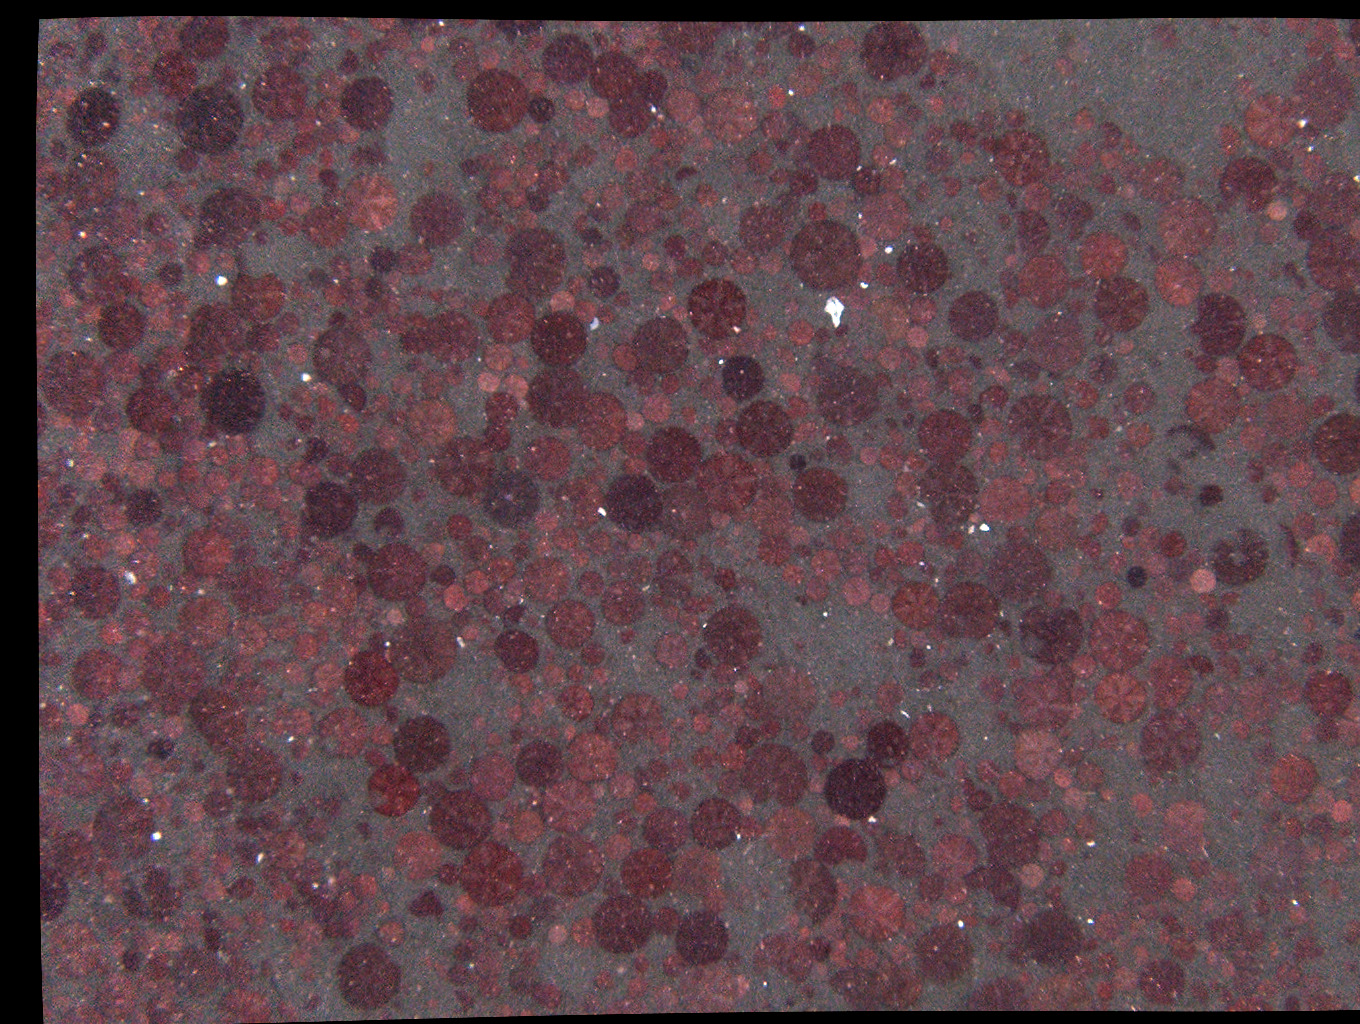Substrate A: (53, 23, 70, 40)
sand dollar: (785, 221, 859, 293), (207, 371, 278, 445), (177, 82, 247, 156), (189, 177, 259, 251), (499, 225, 569, 295), (337, 942, 406, 1010), (858, 19, 931, 82), (739, 741, 805, 808), (393, 617, 458, 684), (1010, 393, 1075, 457), (466, 847, 532, 910), (1292, 65, 1357, 129), (987, 546, 1056, 607), (916, 461, 979, 526), (814, 369, 881, 430), (1017, 605, 1085, 664), (123, 863, 184, 927), (91, 798, 157, 858), (1304, 221, 1360, 289), (148, 639, 204, 707), (433, 437, 496, 497), (44, 349, 104, 411), (684, 281, 747, 340), (820, 758, 885, 816), (641, 427, 704, 485), (466, 70, 522, 133), (1188, 296, 1247, 356), (545, 836, 603, 897), (429, 785, 486, 847), (1309, 284, 1360, 353), (802, 120, 861, 179), (343, 172, 402, 230), (314, 332, 372, 390), (94, 193, 152, 251), (68, 150, 126, 208), (66, 89, 124, 147), (144, 45, 202, 103), (184, 13, 242, 71), (63, 246, 121, 304), (245, 257, 303, 315), (250, 65, 307, 123), (91, 305, 149, 362), (205, 305, 263, 362), (942, 583, 1001, 639), (575, 393, 630, 452), (1093, 615, 1153, 670), (708, 606, 765, 662), (396, 716, 453, 772), (542, 778, 596, 836), (1155, 421, 1209, 474), (980, 805, 1035, 858), (625, 849, 679, 902), (1091, 278, 1145, 331), (945, 295, 999, 349), (603, 479, 657, 532), (409, 393, 462, 446), (521, 435, 575, 488), (301, 191, 355, 245), (412, 195, 466, 248), (698, 451, 751, 504), (645, 547, 699, 601), (919, 407, 973, 460), (749, 494, 803, 547), (790, 465, 844, 518), (864, 719, 918, 772), (1299, 664, 1352, 717), (1016, 677, 1070, 730), (960, 963, 1014, 1016), (634, 805, 688, 858), (229, 746, 283, 800), (371, 547, 425, 601), (178, 949, 232, 1002), (1155, 258, 1209, 311), (894, 243, 949, 296), (996, 133, 1050, 186), (352, 456, 406, 509), (595, 57, 649, 110), (481, 289, 535, 342), (653, 485, 707, 538), (911, 709, 965, 762), (853, 888, 907, 941), (783, 858, 838, 911), (812, 822, 867, 874), (1126, 857, 1180, 910), (1011, 725, 1065, 778), (396, 831, 450, 884), (679, 912, 734, 965), (595, 898, 649, 951), (194, 696, 248, 749), (368, 767, 423, 820), (181, 520, 235, 572), (181, 588, 235, 641), (1306, 413, 1356, 471), (1077, 231, 1131, 284), (1216, 157, 1270, 210), (1022, 253, 1076, 305), (1049, 185, 1103, 238), (992, 204, 1046, 257), (1209, 529, 1263, 582), (1261, 395, 1315, 447), (1244, 339, 1298, 392), (1187, 382, 1241, 435), (1160, 202, 1214, 255), (862, 298, 916, 351), (1029, 315, 1083, 368), (1136, 154, 1190, 207), (730, 198, 784, 251), (860, 188, 914, 241), (1306, 169, 1360, 222), (1245, 88, 1299, 141), (532, 313, 586, 366), (530, 368, 584, 421), (297, 484, 350, 537), (546, 475, 600, 528), (478, 474, 532, 527), (664, 18, 718, 71), (699, 88, 753, 141), (612, 97, 665, 150), (536, 27, 590, 80), (346, 75, 400, 128), (418, 312, 472, 365), (738, 402, 791, 455), (715, 349, 769, 401), (641, 316, 695, 369), (1030, 499, 1084, 552), (980, 477, 1034, 529), (762, 666, 816, 719), (543, 600, 597, 653), (515, 552, 569, 605), (592, 574, 646, 627), (1020, 918, 1074, 970), (964, 869, 1018, 922), (878, 966, 932, 1019), (922, 937, 976, 990), (762, 808, 816, 861), (509, 737, 562, 790), (566, 726, 619, 779), (603, 694, 657, 746), (892, 580, 946, 632), (878, 831, 932, 884), (930, 829, 984, 882), (1251, 841, 1305, 894), (1157, 801, 1211, 854), (1271, 746, 1325, 799), (1219, 670, 1273, 723), (1146, 715, 1200, 768), (1143, 654, 1197, 707), (1089, 671, 1143, 724), (1027, 966, 1080, 1019), (831, 956, 885, 1009), (756, 929, 810, 982), (678, 966, 732, 1019), (471, 745, 525, 798), (674, 851, 728, 904), (691, 800, 745, 853), (115, 371, 169, 424), (318, 711, 372, 764), (348, 651, 402, 703), (320, 898, 374, 951), (263, 823, 317, 876), (229, 971, 283, 1024), (89, 971, 143, 1024), (51, 931, 104, 984), (57, 828, 111, 881), (59, 744, 113, 797), (231, 558, 285, 611), (72, 652, 126, 705), (70, 566, 124, 618), (490, 627, 538, 671), (1330, 514, 1360, 578), (32, 874, 69, 926), (35, 309, 65, 361), (227, 622, 266, 659), (497, 14, 539, 45), (556, 686, 593, 721), (62, 705, 97, 741), (629, 197, 665, 230), (127, 764, 160, 800), (321, 579, 357, 612), (578, 636, 611, 671), (38, 702, 72, 735), (481, 392, 516, 423), (402, 317, 430, 356), (88, 472, 121, 504), (381, 24, 412, 57), (629, 166, 660, 199), (863, 95, 897, 126), (397, 243, 427, 278), (45, 221, 77, 252), (759, 82, 791, 113), (1061, 738, 1092, 770), (443, 51, 476, 81), (1093, 911, 1123, 944), (1120, 784, 1151, 815), (149, 958, 180, 991), (1211, 573, 1240, 607), (475, 366, 505, 397), (482, 336, 512, 367), (501, 369, 531, 400), (541, 289, 571, 321), (395, 435, 425, 466), (366, 421, 396, 452), (384, 396, 414, 427), (381, 367, 411, 398), (344, 379, 374, 410), (285, 335, 315, 366), (282, 268, 312, 299), (469, 240, 499, 271), (467, 289, 497, 321), (443, 282, 473, 313), (418, 282, 448, 313), (398, 278, 428, 309), (331, 252, 361, 283), (329, 298, 359, 329), (353, 300, 383, 331), (377, 297, 407, 328), (366, 270, 396, 301), (369, 243, 399, 274), (244, 127, 274, 158), (334, 46, 364, 77), (315, 68, 345, 99), (283, 25, 313, 56), (260, 24, 290, 55), (37, 245, 67, 276), (55, 196, 85, 227), (199, 157, 229, 188), (167, 170, 197, 201), (144, 173, 174, 204), (174, 146, 204, 177), (43, 168, 73, 199), (37, 137, 67, 168), (34, 102, 65, 133), (42, 80, 72, 111), (78, 28, 109, 59), (125, 71, 155, 102), (129, 43, 159, 74), (155, 18, 185, 49), (128, 12, 158, 43), (520, 139, 550, 170), (478, 200, 509, 231), (470, 177, 500, 209), (489, 154, 519, 185), (491, 139, 521, 170), (454, 150, 484, 181), (610, 144, 640, 175), (595, 124, 625, 155), (570, 110, 600, 141), (560, 83, 590, 114), (530, 93, 560, 124), (521, 71, 552, 102), (502, 46, 532, 77), (468, 15, 498, 46), (469, 40, 499, 71), (445, 27, 475, 58), (409, 14, 439, 45), (406, 68, 436, 99), (418, 26, 448, 57), (171, 323, 201, 354), (315, 385, 345, 416), (157, 283, 187, 314), (138, 303, 168, 335), (176, 370, 206, 401), (121, 356, 152, 387), (289, 379, 319, 410), (103, 355, 133, 386), (115, 274, 145, 305), (281, 189, 311, 221), (249, 152, 280, 183), (210, 250, 240, 281), (160, 255, 190, 286), (183, 225, 213, 256), (129, 241, 159, 272), (81, 300, 111, 331), (48, 279, 78, 310), (317, 165, 347, 196), (320, 143, 350, 174), (295, 156, 325, 187), (257, 187, 287, 218), (270, 143, 300, 174), (292, 123, 323, 154), (315, 111, 345, 142), (334, 116, 364, 147), (311, 95, 341, 126), (291, 106, 321, 138), (275, 210, 305, 241), (352, 137, 382, 168), (339, 411, 369, 442), (285, 408, 315, 439), (172, 569, 202, 600), (148, 580, 178, 611), (66, 504, 96, 536), (130, 547, 160, 579), (102, 523, 132, 554), (41, 484, 71, 515), (34, 447, 65, 479), (198, 438, 228, 469), (194, 465, 224, 496), (182, 481, 212, 512), (174, 454, 204, 485), (178, 433, 209, 465), (159, 484, 189, 515), (151, 456, 181, 487), (132, 431, 162, 463), (127, 494, 157, 525), (98, 452, 128, 483), (114, 425, 144, 456), (73, 454, 103, 485), (91, 406, 121, 437), (70, 423, 100, 454), (41, 409, 71, 440), (47, 585, 77, 616), (44, 563, 74, 594), (37, 639, 67, 670), (808, 43, 839, 74), (383, 598, 413, 629), (345, 586, 375, 617), (419, 530, 449, 561), (295, 599, 325, 630), (295, 552, 325, 583), (268, 547, 298, 579), (228, 526, 258, 557), (205, 498, 235, 529), (270, 510, 300, 541), (249, 478, 280, 509), (246, 455, 276, 486), (283, 478, 313, 509), (301, 458, 331, 489), (445, 511, 475, 542), (371, 504, 401, 536), (404, 488, 434, 520), (299, 435, 329, 466), (325, 453, 355, 484), (675, 200, 705, 231), (698, 180, 728, 211), (781, 31, 811, 62), (819, 186, 849, 217), (801, 187, 831, 218), (790, 166, 820, 197), (720, 143, 750, 174), (748, 146, 778, 177), (755, 110, 785, 141), (739, 43, 769, 74), (647, 57, 677, 88), (643, 38, 673, 69), (626, 22, 656, 53), (638, 72, 668, 103), (587, 23, 617, 54), (688, 69, 718, 100), (687, 140, 717, 171), (644, 124, 674, 155), (669, 88, 699, 119), (712, 422, 742, 453), (707, 382, 738, 413), (792, 421, 822, 452), (673, 396, 703, 427), (691, 366, 721, 397), (788, 392, 818, 423), (616, 451, 646, 482), (619, 430, 649, 461), (669, 359, 699, 390), (782, 372, 812, 403), (652, 368, 682, 399), (740, 307, 770, 338), (699, 336, 729, 367), (620, 362, 650, 394), (603, 343, 633, 374), (756, 251, 786, 282), (728, 248, 758, 280), (697, 238, 727, 269), (672, 258, 702, 289), (653, 285, 683, 316), (640, 264, 670, 295), (630, 245, 660, 276), (611, 253, 641, 284), (598, 223, 628, 254), (571, 213, 601, 244), (577, 183, 607, 214), (601, 183, 631, 214), (583, 252, 613, 283), (587, 268, 617, 299), (564, 296, 595, 327), (556, 265, 586, 296), (573, 143, 603, 174), (459, 616, 489, 648), (446, 601, 476, 632), (479, 584, 510, 615), (487, 551, 517, 582), (459, 563, 489, 594), (444, 584, 474, 615), (467, 526, 497, 557), (510, 529, 540, 560), (535, 507, 566, 538), (549, 526, 579, 557), (578, 563, 609, 594), (567, 541, 597, 572), (585, 527, 615, 558), (617, 524, 647, 555), (586, 455, 616, 486), (888, 615, 918, 646), (903, 650, 933, 681), (655, 637, 685, 668), (657, 600, 687, 631), (715, 558, 745, 589), (695, 552, 725, 583), (935, 555, 965, 586), (939, 527, 969, 558), (904, 510, 934, 541), (877, 492, 907, 523), (839, 540, 869, 571), (876, 540, 906, 571), (897, 536, 927, 567), (847, 523, 877, 554), (821, 523, 851, 554), (808, 544, 839, 575), (789, 522, 819, 553), (762, 536, 792, 567), (702, 507, 732, 538), (785, 442, 815, 473), (762, 464, 792, 495), (746, 449, 776, 480), (153, 928, 183, 959), (299, 805, 329, 836), (307, 786, 338, 817), (276, 800, 306, 831), (274, 908, 304, 939), (274, 877, 304, 908), (255, 869, 285, 900), (180, 857, 210, 888), (199, 881, 229, 912), (227, 870, 257, 901), (253, 800, 283, 831), (232, 808, 262, 839), (184, 798, 214, 829), (109, 755, 139, 786), (161, 710, 191, 741), (383, 691, 413, 722), (368, 720, 398, 751), (337, 623, 367, 654), (303, 679, 333, 710), (255, 710, 285, 741), (237, 682, 267, 713), (113, 667, 143, 698), (94, 622, 124, 653), (124, 931, 154, 963), (302, 920, 332, 951), (213, 908, 243, 939), (147, 993, 177, 1024), (37, 989, 67, 1020), (115, 952, 145, 983), (35, 808, 66, 839), (86, 863, 116, 894), (584, 965, 614, 996), (683, 714, 713, 745), (689, 740, 719, 771), (672, 767, 702, 798), (602, 828, 632, 859), (635, 783, 665, 814), (645, 755, 675, 786), (516, 810, 546, 841), (489, 813, 519, 844), (521, 777, 552, 808), (413, 767, 443, 798), (477, 711, 507, 742), (549, 719, 579, 750), (500, 721, 530, 752), (503, 695, 533, 726), (526, 689, 556, 721), (503, 666, 533, 697), (653, 728, 683, 759), (564, 662, 595, 693), (645, 907, 675, 938), (373, 862, 403, 893), (601, 872, 631, 904), (497, 989, 527, 1020), (475, 977, 505, 1008), (461, 983, 491, 1014), (478, 940, 509, 971), (530, 984, 560, 1015), (506, 968, 536, 999), (519, 939, 549, 970), (450, 933, 481, 964), (543, 919, 573, 950), (505, 911, 535, 942), (479, 904, 510, 935), (447, 909, 477, 940), (409, 894, 439, 925), (433, 862, 463, 893), (520, 865, 550, 896), (821, 948, 851, 979), (884, 766, 914, 797), (732, 812, 762, 843), (740, 784, 770, 815), (711, 763, 741, 794), (710, 734, 740, 765), (732, 679, 762, 710), (703, 686, 733, 717), (683, 651, 713, 682), (905, 754, 935, 785), (867, 684, 897, 715), (800, 765, 830, 796), (807, 746, 838, 778), (815, 725, 845, 756), (838, 725, 868, 756), (844, 709, 874, 740), (825, 685, 855, 716), (811, 962, 841, 993), (855, 941, 885, 972), (892, 912, 922, 943), (815, 906, 845, 937), (889, 942, 919, 973), (655, 952, 685, 983), (1275, 798, 1305, 829), (1125, 913, 1155, 944), (1126, 942, 1156, 973), (1114, 961, 1144, 992), (1097, 976, 1127, 1007), (1070, 950, 1100, 981), (1053, 885, 1083, 916), (1019, 897, 1049, 928), (985, 924, 1015, 955), (946, 876, 976, 907), (921, 878, 951, 909), (937, 786, 968, 817), (937, 752, 968, 783), (970, 746, 1000, 778), (1001, 769, 1031, 800), (1021, 778, 1051, 809), (1050, 842, 1080, 873), (1074, 814, 1104, 845), (1042, 806, 1072, 837), (1112, 735, 1142, 766), (1091, 782, 1121, 813), (1058, 783, 1088, 814), (1089, 729, 1119, 760), (1314, 779, 1344, 810), (1299, 636, 1329, 667), (1251, 806, 1282, 837), (1314, 976, 1344, 1007), (1283, 985, 1313, 1016), (1330, 926, 1360, 957), (1295, 936, 1326, 967), (1233, 963, 1263, 994), (1214, 951, 1244, 982), (1250, 891, 1280, 922), (1286, 899, 1316, 930), (1213, 914, 1243, 945), (1329, 841, 1359, 872), (1330, 795, 1360, 826), (1209, 871, 1240, 902), (1188, 854, 1218, 885), (1321, 715, 1351, 746), (1274, 683, 1304, 714), (1207, 681, 1237, 712), (1203, 710, 1233, 741), (1070, 683, 1100, 714), (1071, 653, 1101, 684), (998, 652, 1028, 683), (987, 714, 1017, 745), (917, 635, 947, 666), (1125, 565, 1155, 596), (1078, 595, 1108, 626), (1042, 584, 1072, 615), (1076, 538, 1106, 569), (1002, 520, 1032, 551), (1125, 413, 1155, 444), (1088, 412, 1118, 443), (1071, 433, 1101, 465), (1062, 455, 1092, 486), (1015, 458, 1045, 489), (1154, 571, 1184, 602), (1189, 563, 1219, 594), (1134, 551, 1164, 582), (1162, 527, 1192, 558), (1133, 521, 1163, 552), (1114, 509, 1144, 540), (1330, 480, 1360, 511), (1308, 477, 1338, 508), (1262, 437, 1292, 468), (1286, 453, 1316, 484), (1270, 468, 1300, 499), (1257, 477, 1287, 508), (1233, 459, 1263, 490), (1157, 471, 1187, 502), (139, 279, 168, 311), (867, 588, 894, 622), (482, 418, 512, 449), (403, 349, 433, 379), (309, 262, 339, 293), (323, 278, 353, 308), (245, 20, 275, 51), (48, 35, 78, 66), (67, 8, 97, 38), (531, 119, 561, 150), (499, 177, 529, 208), (585, 93, 615, 123), (402, 48, 432, 79), (354, 34, 384, 65), (172, 389, 202, 419), (247, 321, 277, 351), (180, 248, 210, 279), (151, 205, 181, 236), (259, 162, 289, 193), (247, 221, 277, 251), (126, 577, 156, 607), (78, 534, 109, 564), (102, 504, 132, 535), (120, 460, 151, 490), (367, 617, 397, 648), (396, 589, 426, 620), (275, 574, 305, 605), (314, 531, 344, 561), (348, 532, 378, 563), (213, 461, 243, 492), (228, 432, 258, 463), (284, 461, 314, 492), (790, 65, 820, 95), (653, 177, 683, 208), (670, 162, 700, 193), (656, 150, 686, 180), (777, 346, 807, 376), (791, 318, 821, 349), (762, 319, 792, 350), (730, 332, 760, 362), (622, 406, 653, 436), (663, 233, 693, 264), (606, 278, 636, 308), (539, 162, 569, 193), (503, 574, 533, 605), (839, 574, 869, 605), (867, 517, 897, 547), (803, 574, 833, 605), (228, 845, 258, 876), (204, 845, 234, 876), (205, 788, 235, 819), (141, 733, 171, 763), (108, 702, 138, 733), (314, 659, 344, 689), (285, 730, 315, 760), (281, 703, 311, 734), (294, 631, 324, 662), (276, 660, 306, 691), (269, 617, 299, 648), (230, 660, 260, 691), (126, 632, 156, 663), (230, 958, 260, 989), (246, 904, 276, 934), (612, 803, 642, 834), (661, 673, 691, 703), (541, 659, 571, 689), (700, 887, 730, 918), (561, 916, 591, 947), (448, 887, 478, 918), (883, 816, 913, 847), (625, 945, 655, 976), (717, 703, 747, 734), (711, 660, 741, 691), (741, 719, 771, 749), (764, 716, 794, 746), (783, 716, 813, 746), (826, 874, 856, 905), (1098, 944, 1128, 975), (1022, 859, 1053, 890), (1226, 989, 1256, 1019), (1321, 873, 1351, 904), (1274, 958, 1304, 989), (1163, 929, 1193, 959), (1161, 902, 1191, 933), (1233, 717, 1263, 748), (1288, 503, 1318, 534), (1106, 463, 1136, 493), (1056, 659, 1086, 689), (977, 675, 1007, 706), (933, 659, 963, 689), (1053, 490, 1083, 521), (1105, 432, 1135, 463), (1037, 474, 1068, 504), (1166, 547, 1197, 578), (1285, 432, 1315, 463), (509, 343, 538, 374), (421, 372, 450, 403), (280, 302, 309, 333), (350, 279, 380, 310), (366, 12, 395, 43), (204, 52, 235, 81), (108, 32, 137, 63), (509, 201, 538, 232), (35, 516, 65, 547), (135, 520, 164, 551), (151, 429, 180, 460), (337, 551, 366, 582), (765, 153, 794, 184), (781, 124, 810, 155), (722, 49, 751, 81), (665, 301, 695, 332), (593, 305, 622, 337), (423, 555, 452, 586), (507, 451, 536, 482), (622, 554, 652, 585), (679, 598, 708, 629), (953, 550, 982, 581), (779, 564, 808, 595), (364, 753, 393, 784), (121, 609, 151, 640), (380, 911, 409, 942), (294, 943, 323, 975), (350, 869, 380, 900), (609, 771, 638, 802), (593, 656, 622, 687), (781, 909, 810, 940), (722, 949, 751, 980), (650, 984, 679, 1015), (937, 894, 967, 925), (967, 782, 996, 813), (1037, 827, 1066, 858), (1053, 765, 1082, 796), (1080, 753, 1110, 784), (1239, 780, 1268, 811), (1237, 922, 1266, 953), (1166, 877, 1196, 908), (1096, 579, 1125, 610), (1123, 381, 1153, 412), (1039, 449, 1070, 478), (1196, 480, 1225, 511), (366, 392, 395, 422), (151, 234, 180, 265), (49, 318, 78, 349), (35, 603, 65, 634), (529, 190, 558, 221), (151, 788, 180, 819), (436, 958, 466, 989), (1295, 717, 1325, 748), (1097, 321, 1128, 349), (873, 369, 898, 403), (529, 890, 558, 919), (980, 414, 1010, 443), (959, 400, 988, 429), (1007, 359, 1036, 388), (978, 384, 1007, 413), (984, 355, 1013, 384), (940, 371, 969, 400), (846, 328, 875, 357), (872, 341, 901, 370), (831, 338, 860, 367), (999, 253, 1028, 282), (983, 270, 1012, 299), (989, 330, 1018, 359), (900, 379, 929, 408), (903, 347, 932, 376), (960, 343, 989, 372), (933, 340, 962, 369), (902, 323, 931, 352), (908, 296, 937, 325), (883, 473, 912, 502), (896, 449, 925, 478), (980, 443, 1010, 472), (844, 442, 873, 471), (879, 436, 908, 465), (886, 418, 915, 447), (1115, 162, 1144, 191), (1192, 352, 1221, 381), (1214, 358, 1243, 387), (1064, 289, 1093, 318), (1116, 207, 1145, 236), (1066, 379, 1096, 408), (1086, 355, 1115, 384), (1111, 335, 1140, 364), (1066, 136, 1096, 165), (1064, 165, 1093, 194), (1039, 163, 1068, 193), (1016, 181, 1045, 210), (1247, 307, 1276, 336), (1097, 174, 1126, 203), (1116, 176, 1145, 205), (1213, 125, 1242, 154), (1270, 145, 1299, 174), (1300, 156, 1329, 185), (1277, 177, 1306, 207), (1268, 199, 1297, 228), (1291, 214, 1320, 243), (1254, 223, 1283, 252), (1215, 226, 1244, 255), (1305, 284, 1334, 313), (1289, 305, 1318, 335), (1262, 290, 1291, 319), (1309, 390, 1338, 419), (1240, 427, 1269, 456), (1331, 31, 1360, 60), (1303, 10, 1332, 39), (1292, 35, 1321, 65), (1277, 10, 1306, 39), (1142, 30, 1171, 59), (1231, 77, 1260, 106), (1182, 603, 1209, 632), (810, 324, 838, 353), (1212, 264, 1241, 291), (1098, 150, 1127, 177), (1237, 264, 1266, 291), (1239, 399, 1266, 428), (331, 27, 362, 53), (673, 113, 701, 141), (643, 395, 671, 423), (616, 971, 644, 999), (1186, 701, 1214, 729), (1188, 651, 1216, 679), (1226, 634, 1252, 663), (1217, 653, 1244, 682), (1204, 629, 1231, 658), (1171, 622, 1198, 651), (1205, 585, 1232, 614), (1201, 605, 1228, 634), (1299, 608, 1325, 638), (1325, 599, 1350, 629), (1309, 529, 1335, 559), (944, 116, 972, 143), (914, 179, 940, 208), (1335, 634, 1360, 664), (1335, 584, 1360, 614), (1279, 558, 1304, 588), (1334, 553, 1359, 583), (1158, 610, 1185, 637), (1093, 506, 1119, 534), (1101, 122, 1129, 147), (869, 265, 897, 290), (875, 166, 903, 191), (1065, 106, 1093, 132), (954, 150, 982, 175), (910, 66, 937, 91), (1041, 49, 1069, 75), (924, 146, 953, 171), (840, 288, 868, 313), (851, 264, 879, 288), (851, 234, 879, 259), (980, 212, 1008, 237), (910, 221, 937, 245), (850, 172, 878, 197), (867, 143, 894, 168), (887, 118, 915, 143), (900, 90, 928, 115), (826, 82, 854, 106), (835, 32, 863, 57), (970, 183, 998, 208), (936, 175, 964, 200), (962, 133, 990, 158), (915, 120, 943, 145), (968, 100, 996, 125), (1007, 102, 1035, 127), (925, 89, 953, 114), (921, 47, 949, 72), (945, 34, 973, 59), (816, 800, 843, 825), (824, 433, 844, 466), (588, 779, 613, 803), (1105, 545, 1127, 571)
